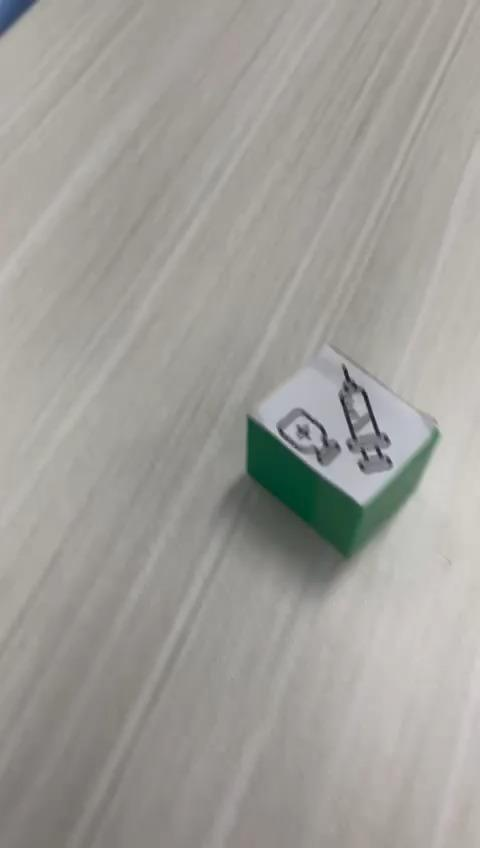antiseptic cream: (244, 341, 441, 558)
